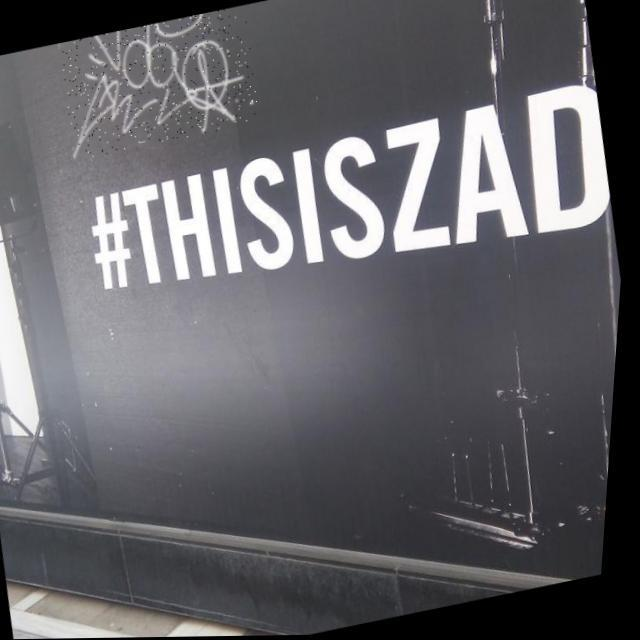-: (54, 6, 268, 161)
